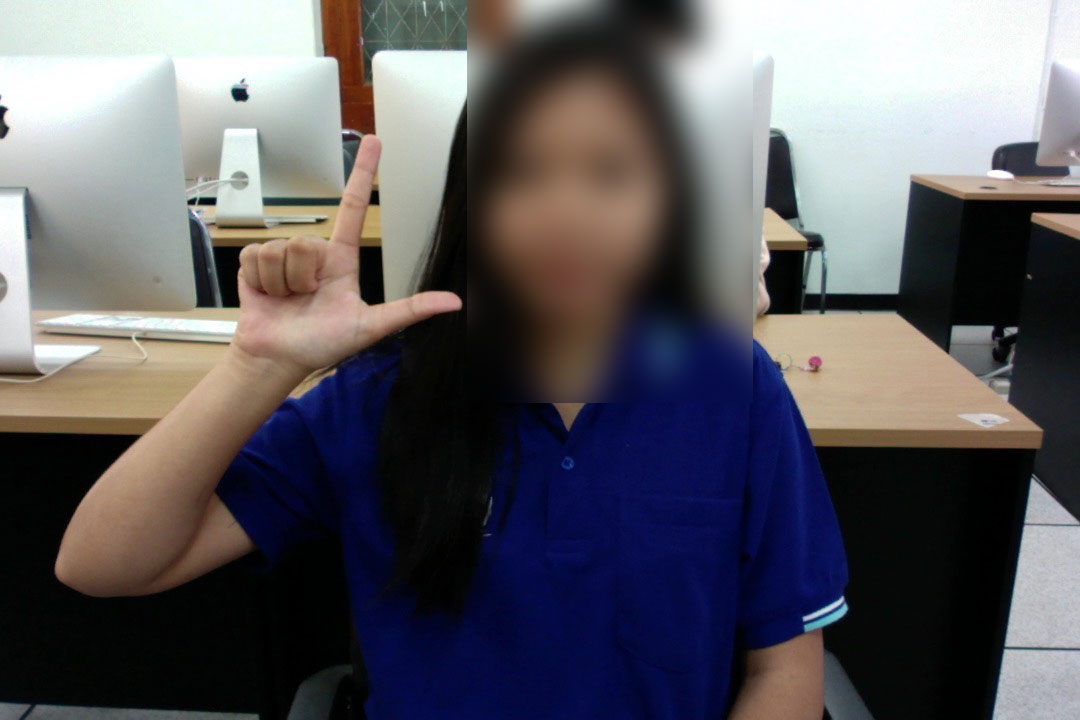lor: (200, 123, 474, 372)
